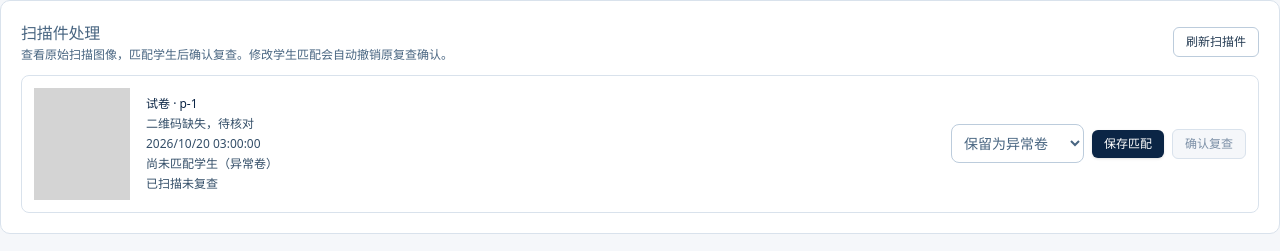
Test: ScannerReviewPanel › retains unreadable QR pages for later manual student matching
Expected: the text "二维码缺失，待核对" is shown, [146,115,254,132]
Expected: the text "尚未匹配学生（异常卷）" is shown, [146,155,278,172]
Select "王同学（101）" in the dropdown named "匹配学生 scan-1" at (1018, 144), box [951,124,1084,163]
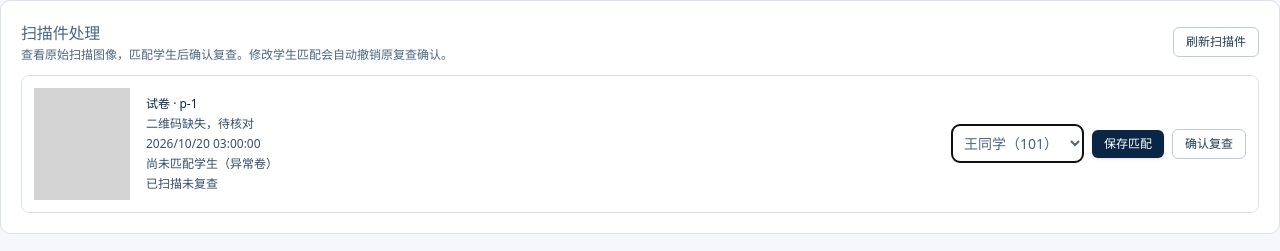
Click the button "保存匹配".
click(1128, 144)  # box [1092,130,1164,158]
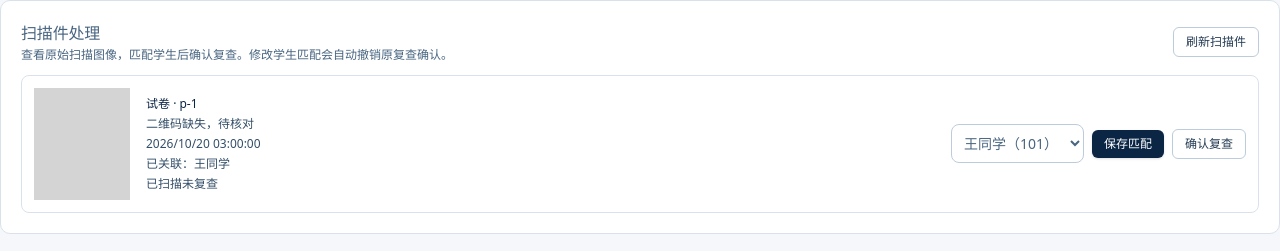
Now the text "已关联：王同学" is shown, box [146,155,230,172]
Click the button "确认复查".
click(1209, 144)  # box [1172,129,1246,159]
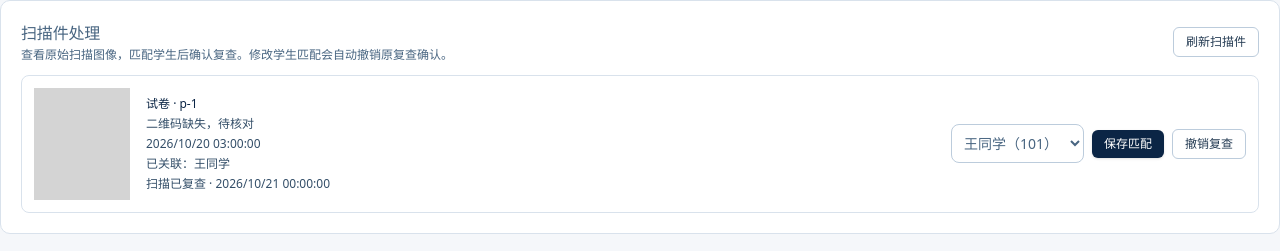
Now the button "撤销复查" is shown, box [1172,129,1246,159]
